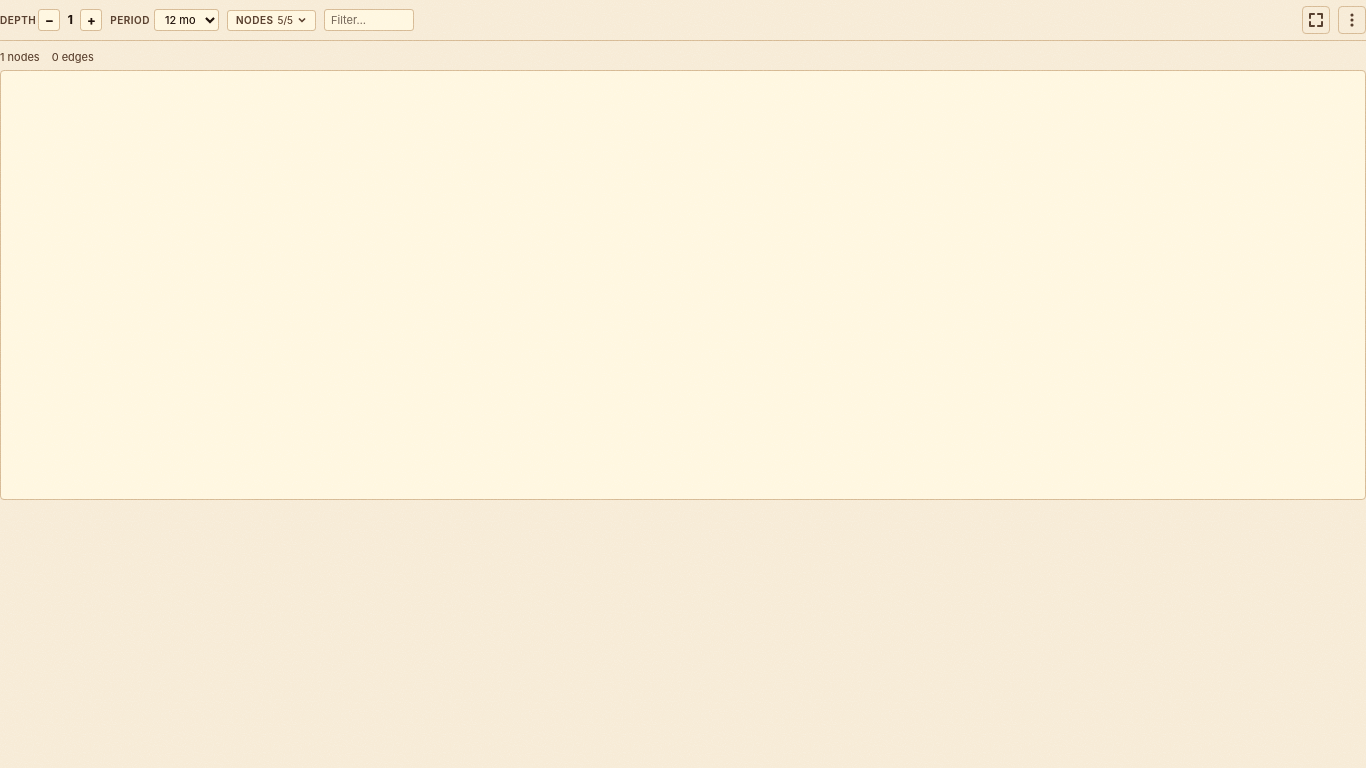
Test: GraphExplorer — fullscreen mode › options menu still opens and closes in fullscreen
The image size is (1366, 768).
Click the button with test id "ge-fullscreen-btn" at (1316, 20), box [1302,6,1330,34]
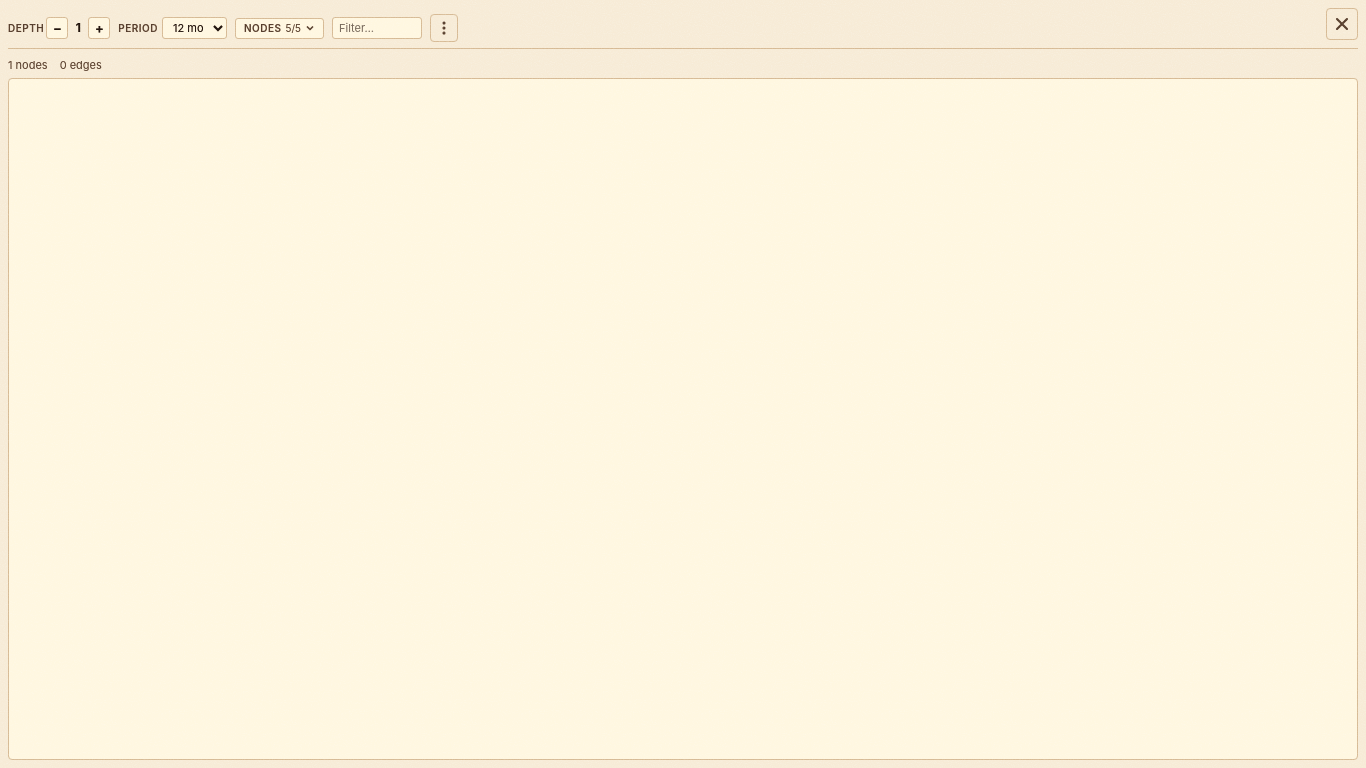
Click the button with test id "ge-options-btn" at (444, 28), box [430,14,458,42]
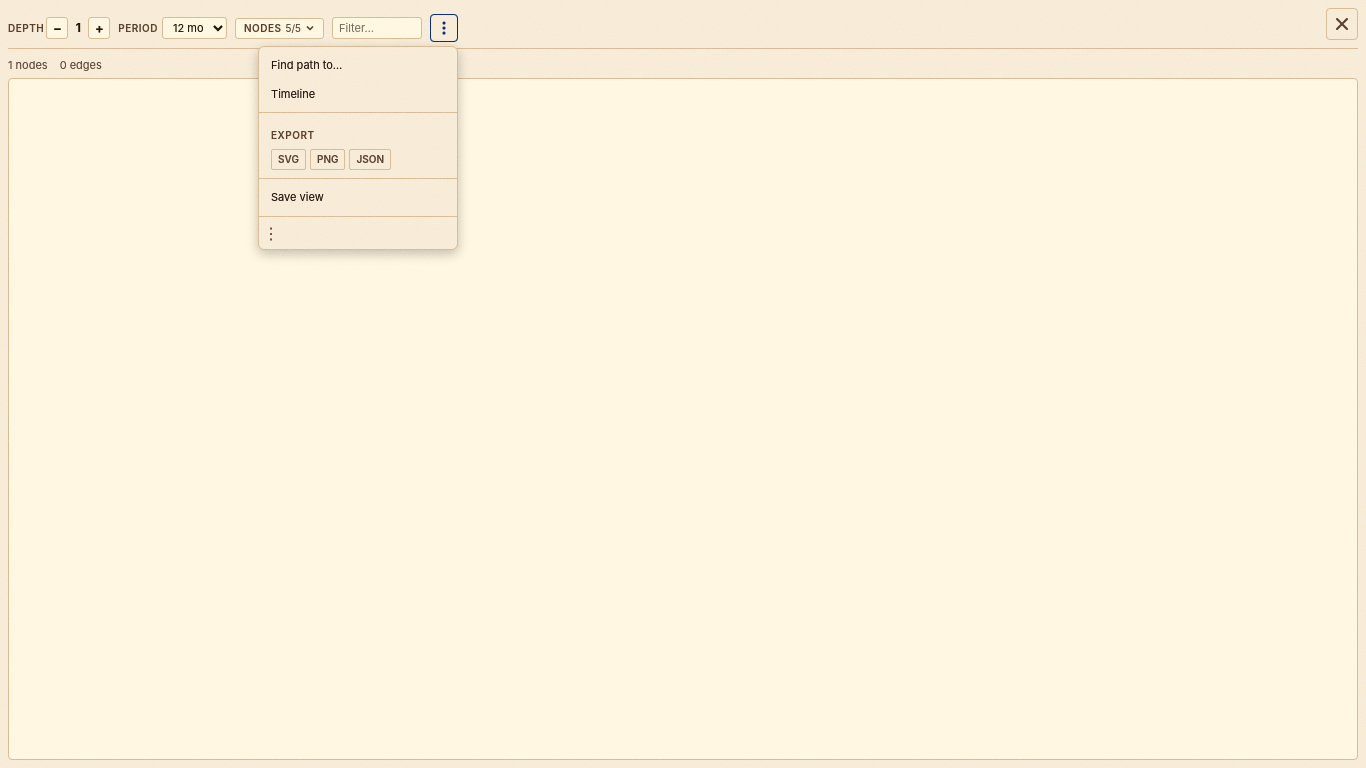
Expected: the element with test id "ge-options-menu" is shown, [258,46,458,250]
